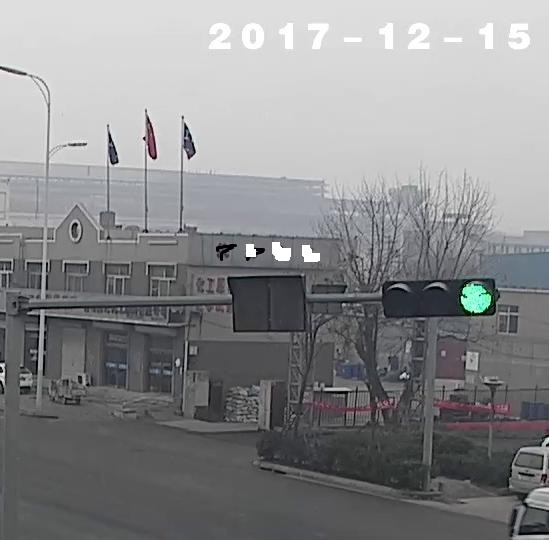green: (458, 281, 496, 317)
